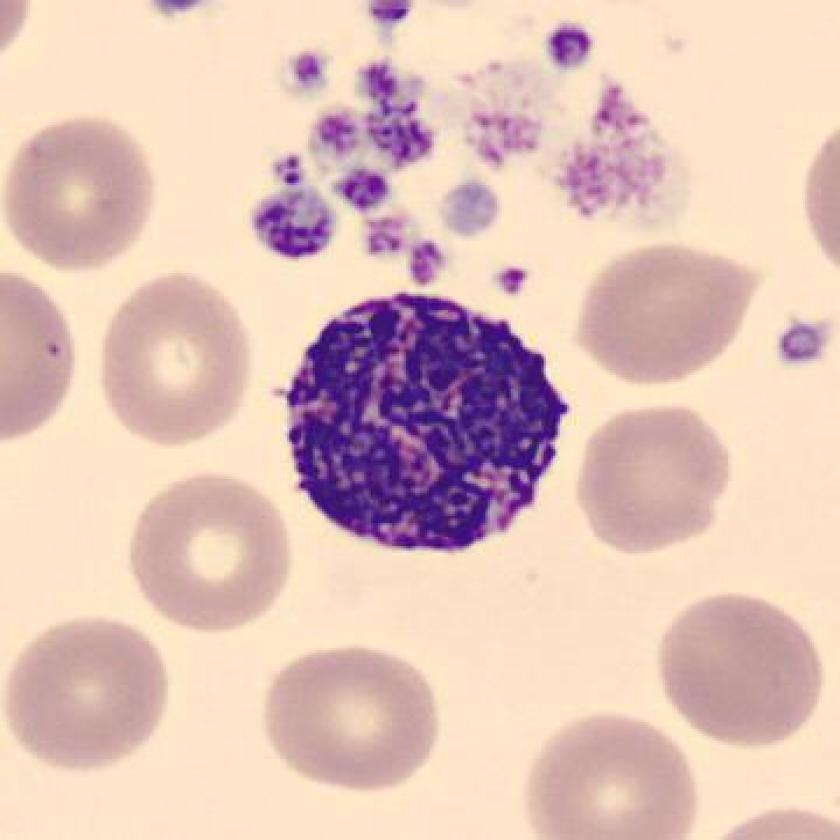basophil: (274, 288, 577, 563)
